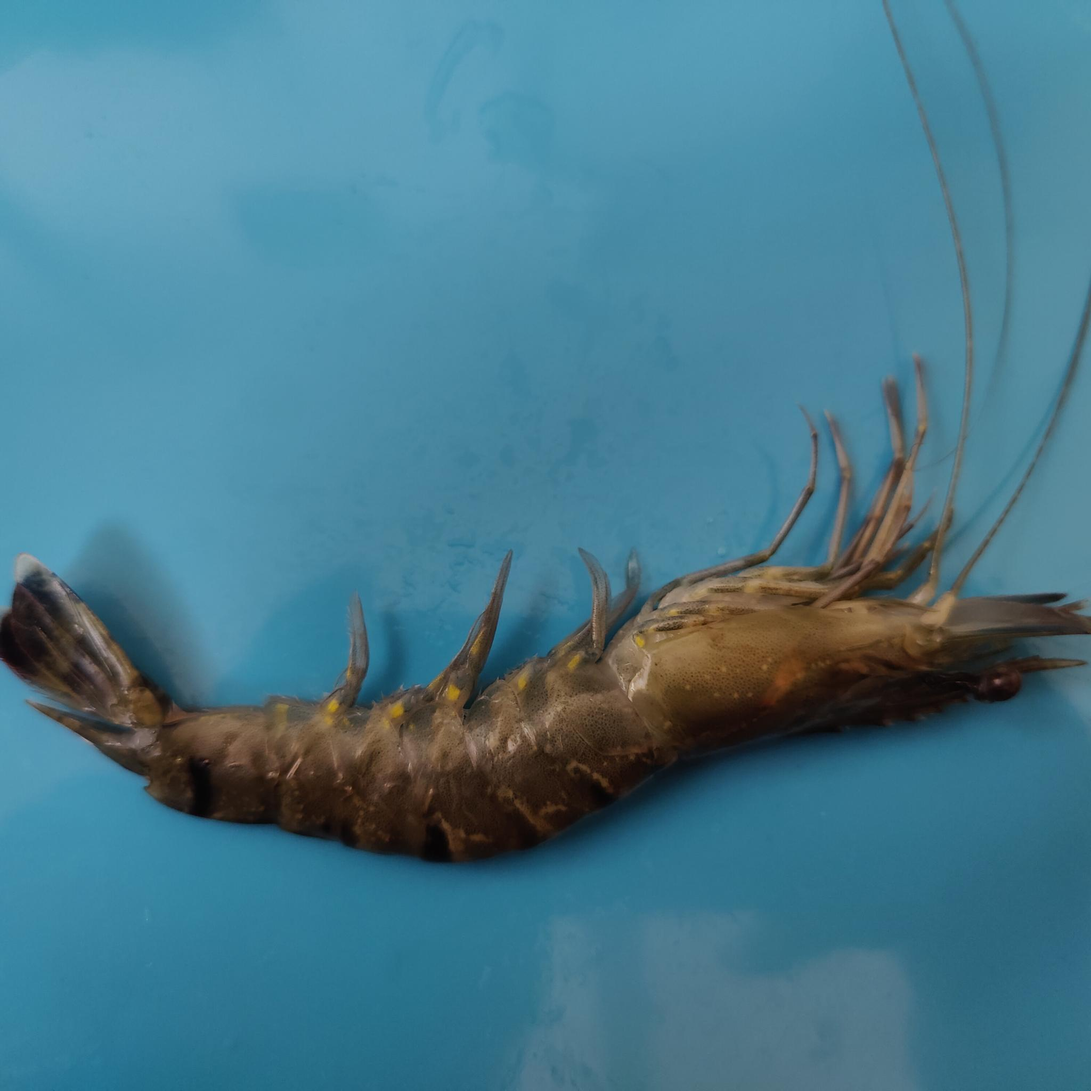whitespot: (674, 643, 791, 711), (596, 713, 688, 779)
